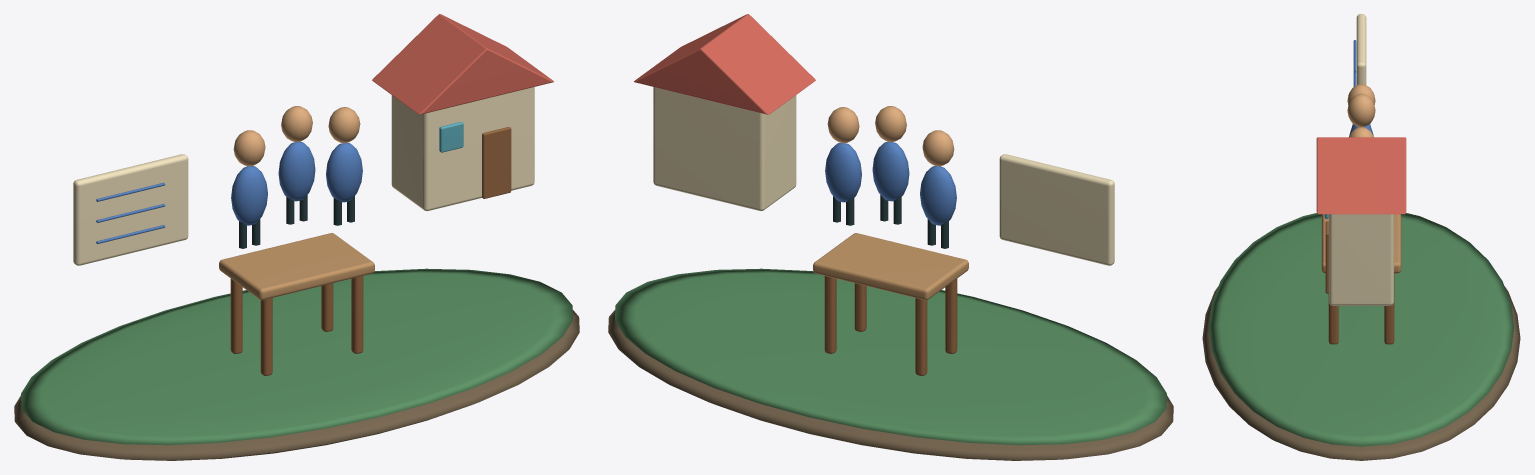
File: complete-first-public-task-room.glb
The picture shows the model from 3 angles, left to right: view 1: azimuth 30°, elevation 25°; view 2: azimuth 150°, elevation 25°; view 3: azimuth 270°, elevation 25°; orthographic projection. The views are drawn at different scales.
Visible parts, largest first — view 1: complete-first-public-task-room_surface_01, complete-first-public-task-room_surface_02, complete-first-public-task-room_surface_00, complete-first-public-task-room_surface_06, complete-first-public-task-room_surface_09, complete-first-public-task-room_surface_03, complete-first-public-task-room_surface_07, complete-first-public-task-room_surface_04, complete-first-public-task-room_surface_05, complete-first-public-task-room_surface_08; view 2: complete-first-public-task-room_surface_01, complete-first-public-task-room_surface_02, complete-first-public-task-room_surface_00, complete-first-public-task-room_surface_06, complete-first-public-task-room_surface_09, complete-first-public-task-room_surface_03, complete-first-public-task-room_surface_07, complete-first-public-task-room_surface_04, complete-first-public-task-room_surface_05; view 3: complete-first-public-task-room_surface_01, complete-first-public-task-room_surface_06, complete-first-public-task-room_surface_02, complete-first-public-task-room_surface_00, complete-first-public-task-room_surface_04, complete-first-public-task-room_surface_07, complete-first-public-task-room_surface_09.
Boxes of the visible parts, left/top/right/bottom form: complete-first-public-task-room_surface_01: left=21, top=268, right=572, bottom=445; complete-first-public-task-room_surface_02: left=73, top=87, right=534, bottom=265; complete-first-public-task-room_surface_00: left=14, top=310, right=579, bottom=460; complete-first-public-task-room_surface_06: left=372, top=14, right=553, bottom=114; complete-first-public-task-room_surface_09: left=219, top=233, right=374, bottom=300; complete-first-public-task-room_surface_03: left=96, top=141, right=362, bottom=243; complete-first-public-task-room_surface_07: left=230, top=127, right=511, bottom=375; complete-first-public-task-room_surface_04: left=233, top=106, right=360, bottom=166; complete-first-public-task-room_surface_05: left=239, top=195, right=354, bottom=248; complete-first-public-task-room_surface_08: left=439, top=122, right=463, bottom=152; complete-first-public-task-room_surface_01: left=615, top=268, right=1166, bottom=445; complete-first-public-task-room_surface_02: left=653, top=87, right=1114, bottom=265; complete-first-public-task-room_surface_00: left=608, top=310, right=1173, bottom=460; complete-first-public-task-room_surface_06: left=634, top=14, right=815, bottom=114; complete-first-public-task-room_surface_09: left=813, top=233, right=968, bottom=300; complete-first-public-task-room_surface_03: left=825, top=141, right=956, bottom=225; complete-first-public-task-room_surface_07: left=824, top=276, right=957, bottom=375; complete-first-public-task-room_surface_04: left=827, top=106, right=954, bottom=166; complete-first-public-task-room_surface_05: left=833, top=195, right=948, bottom=248; complete-first-public-task-room_surface_01: left=1209, top=213, right=1513, bottom=446; complete-first-public-task-room_surface_06: left=1316, top=137, right=1406, bottom=214; complete-first-public-task-room_surface_02: left=1329, top=14, right=1393, bottom=305; complete-first-public-task-room_surface_00: left=1202, top=286, right=1520, bottom=460; complete-first-public-task-room_surface_04: left=1347, top=84, right=1375, bottom=137; complete-first-public-task-room_surface_07: left=1325, top=221, right=1394, bottom=344; complete-first-public-task-room_surface_09: left=1321, top=214, right=1401, bottom=273.
Bounding box in the file's own units: 4.56 × 2.53 × 2.5.
